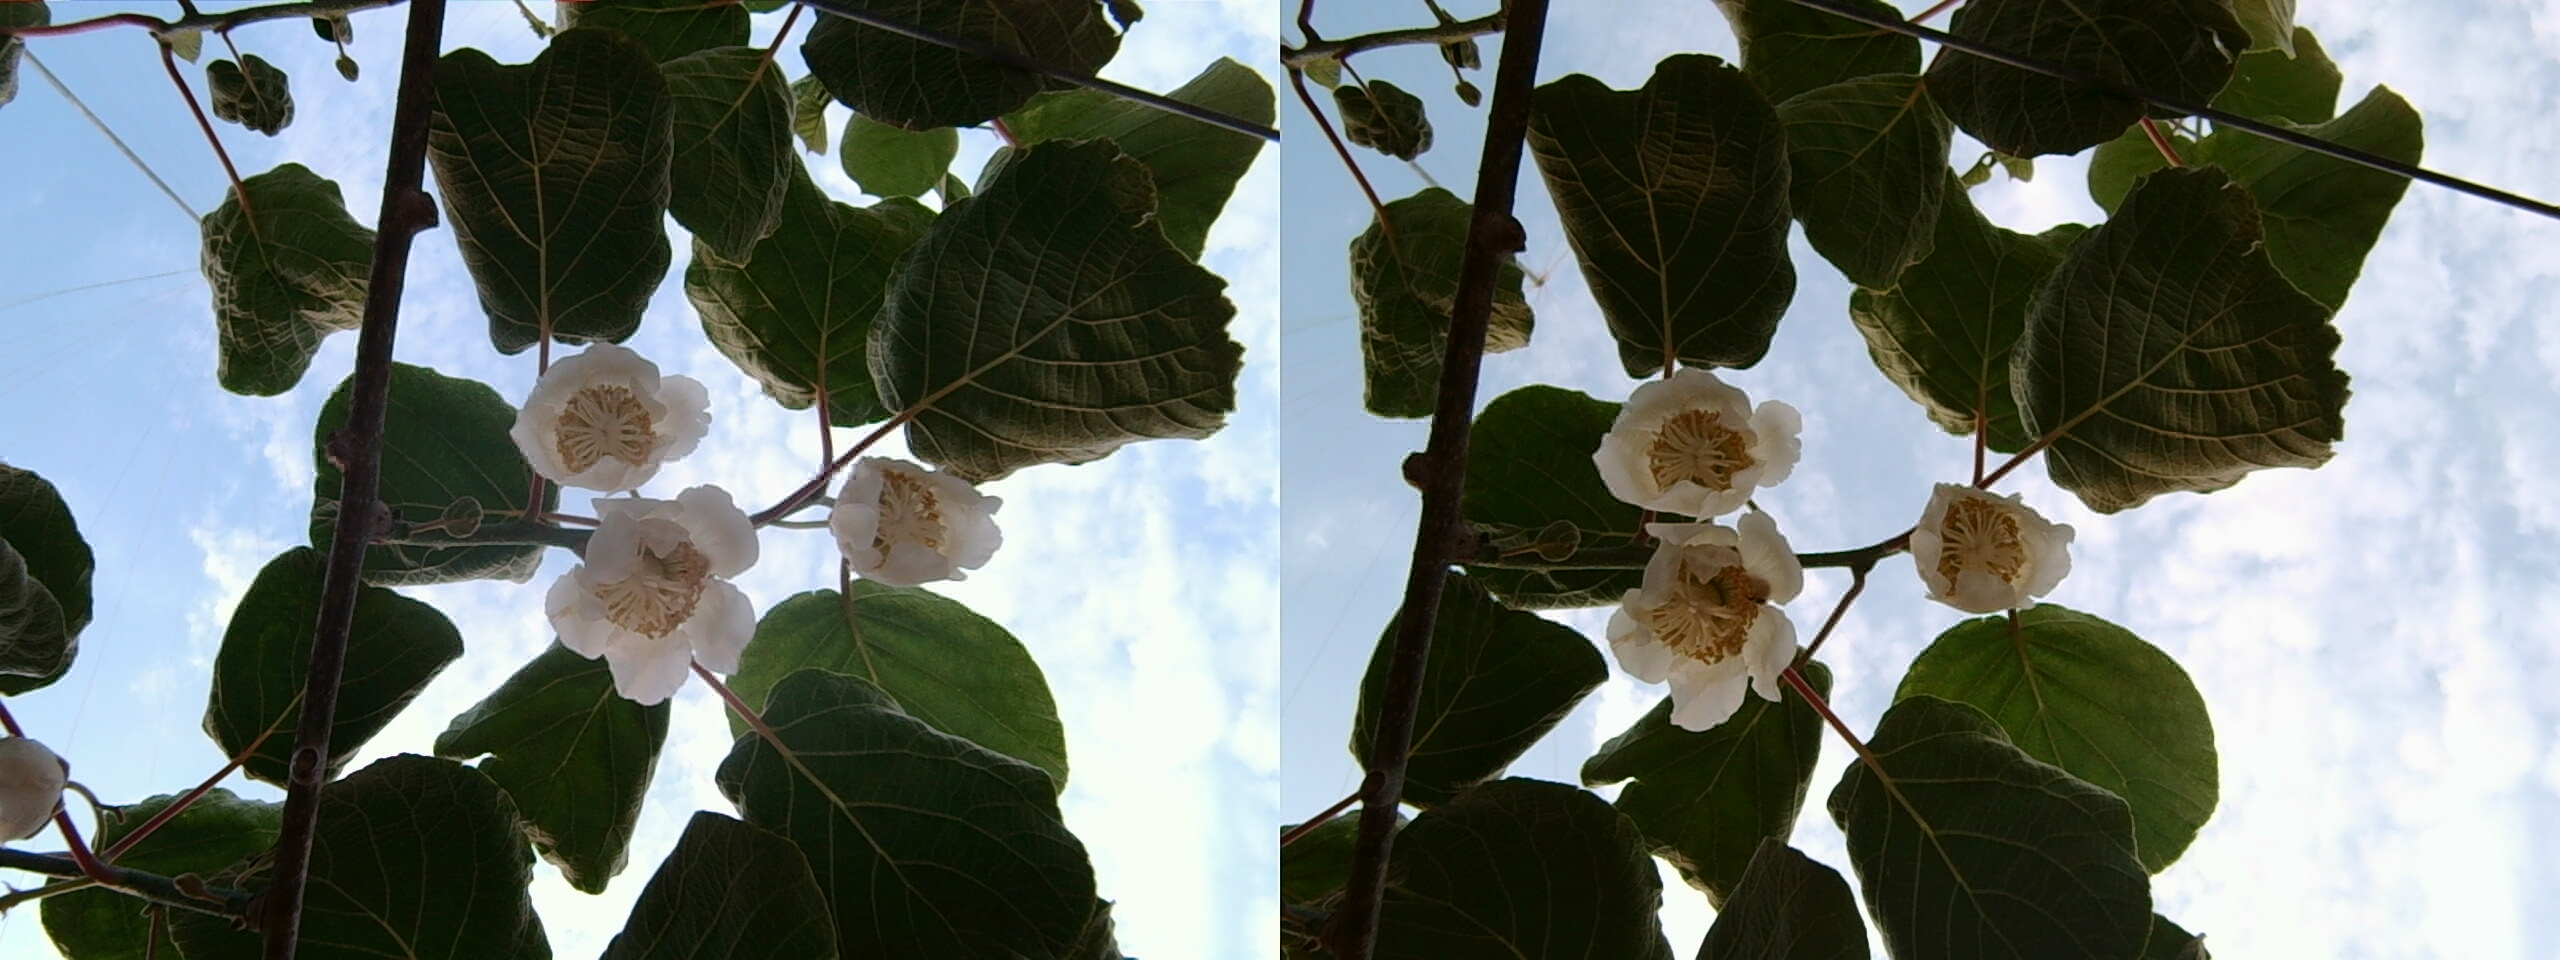flower: (1593, 503, 1807, 725), (532, 490, 758, 700), (503, 331, 707, 500), (1590, 362, 1799, 522), (1899, 475, 2077, 611), (829, 452, 1002, 586)
